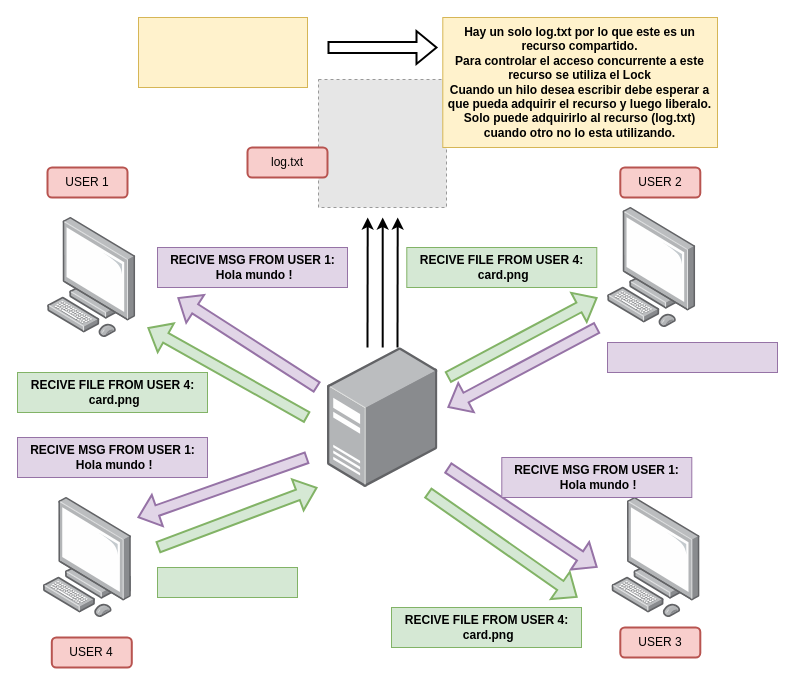
This 795x686 diagram has some shape labels left out. Grey dashed boxes stand in for pictures. The shapes that lost their labels are listed below. From the top down, each one's centre as x and y in pixels, then its label:
the point at 223,52: Archvio log.txt contiene todas las interacciones que realiza el servidor
the point at 692,357: SEND MSG: Hola mundo !
the point at 227,582: SEND IMG: card.png
